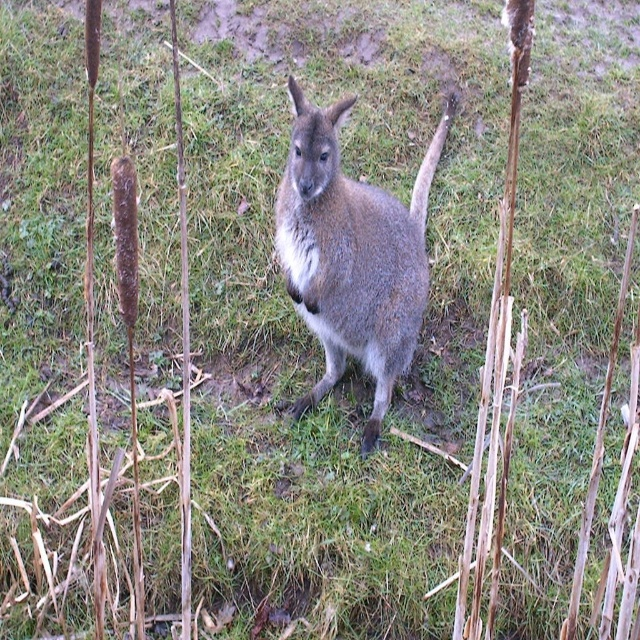Kangaroo: (275, 75, 458, 462)
